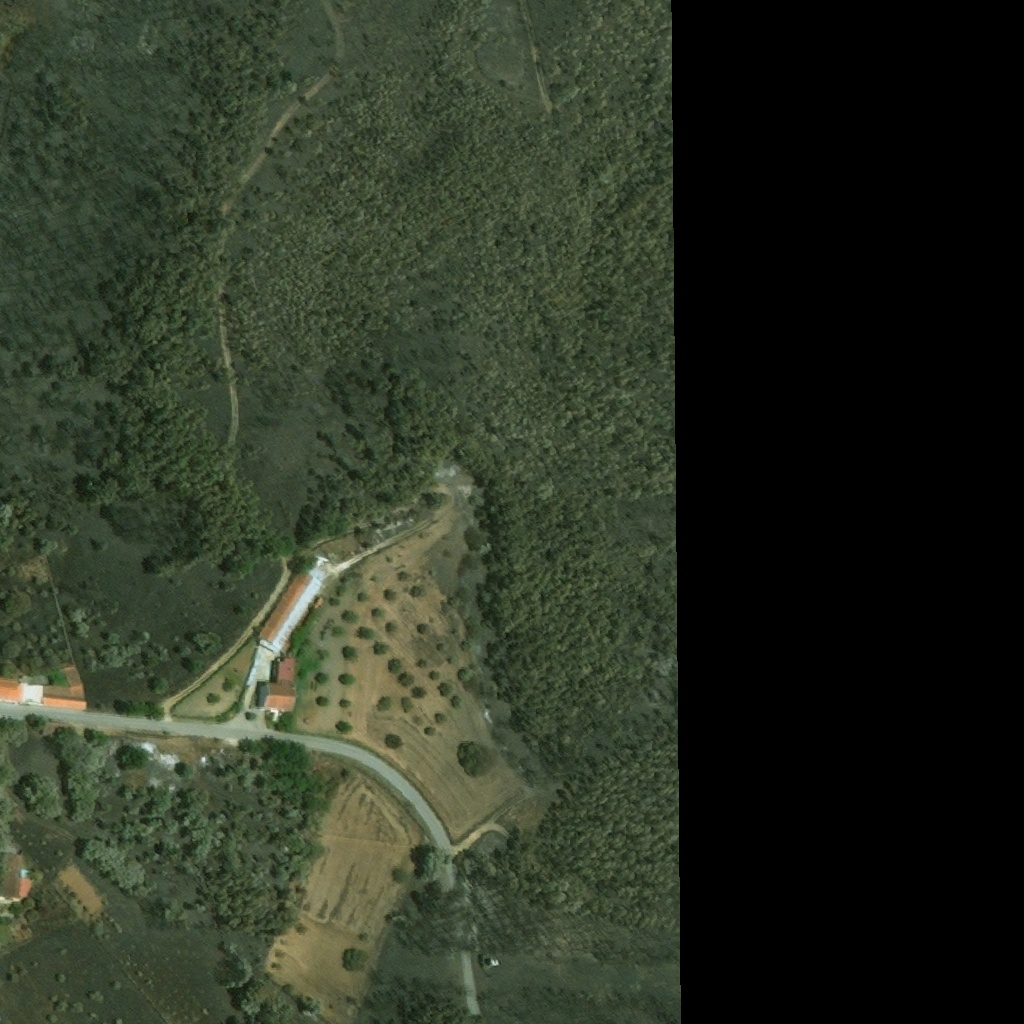0 no-damage: (254, 558, 331, 656), (0, 664, 87, 710), (258, 656, 296, 713), (0, 853, 33, 900), (482, 954, 499, 969)
